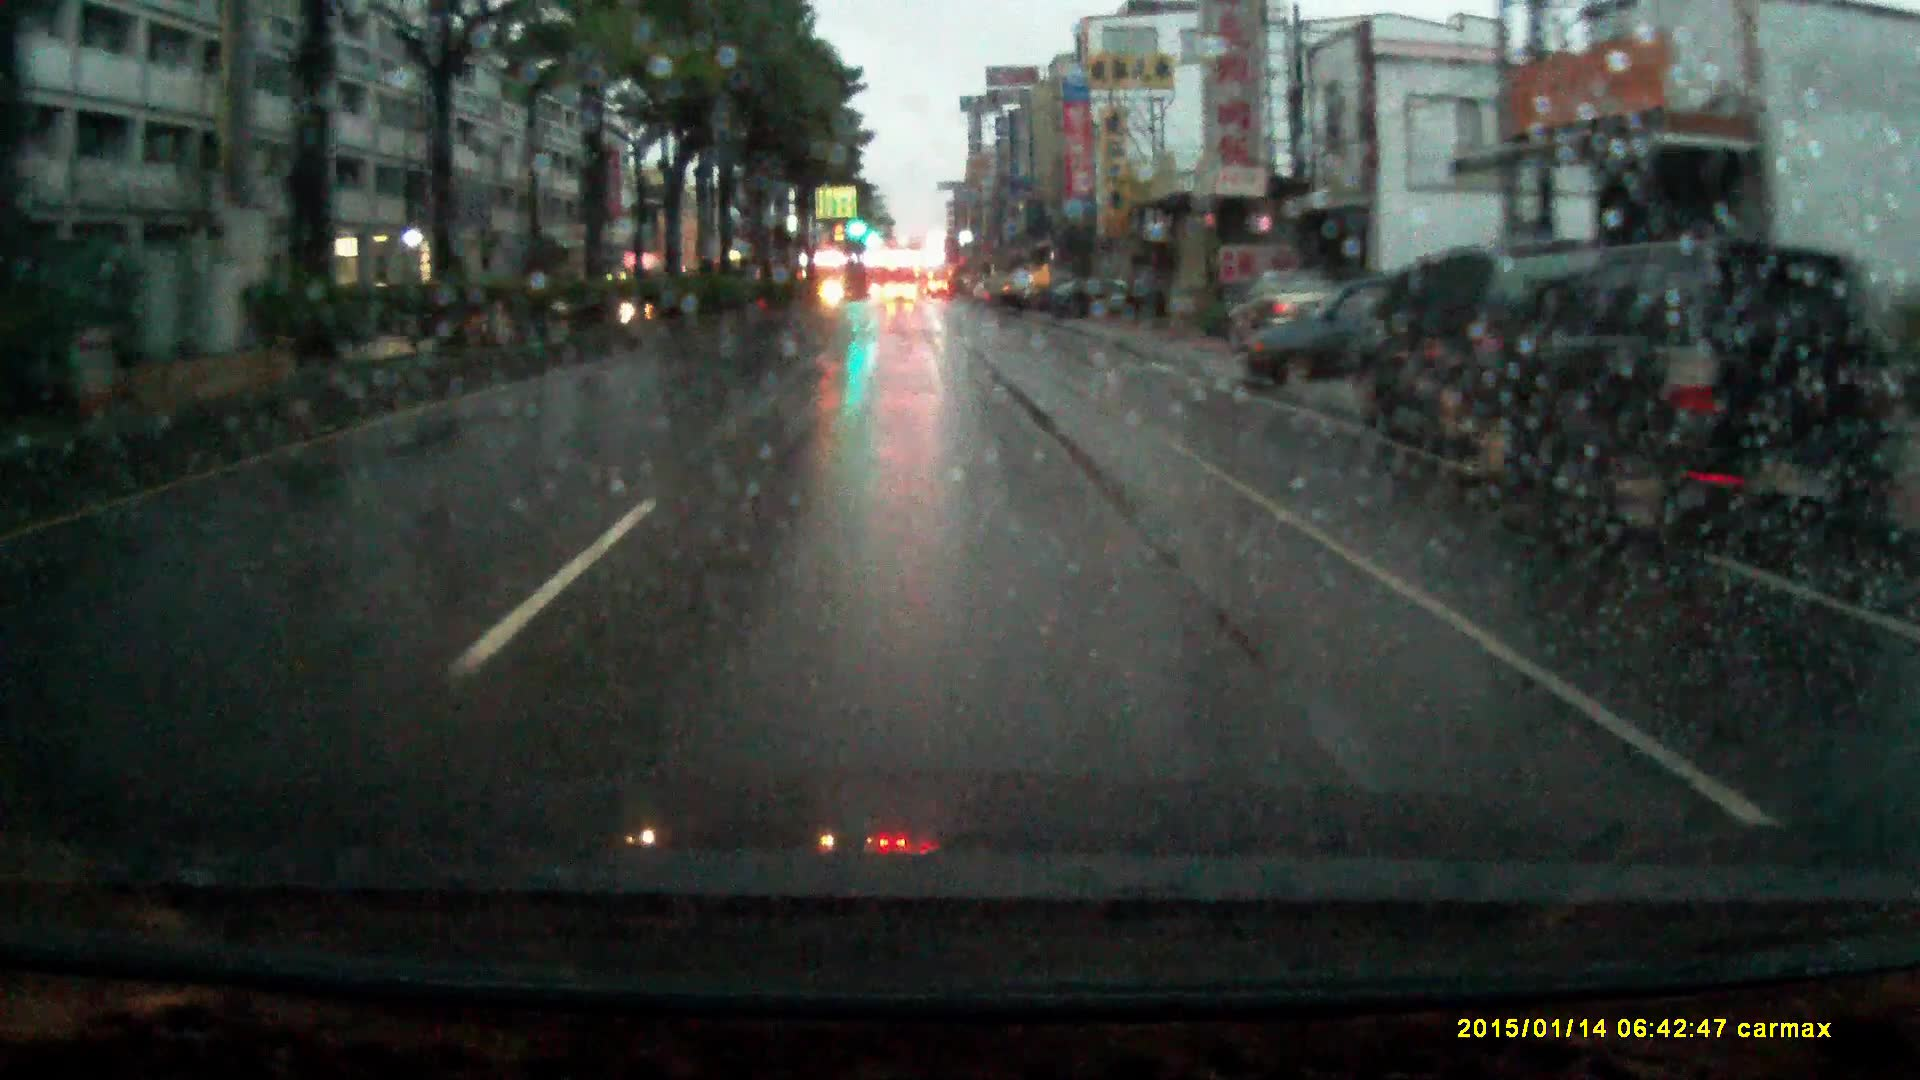vehicle: (1494, 241, 1869, 592), (1338, 251, 1683, 479), (1232, 287, 1451, 401), (1228, 277, 1344, 363), (985, 278, 1030, 316), (886, 287, 918, 311)
